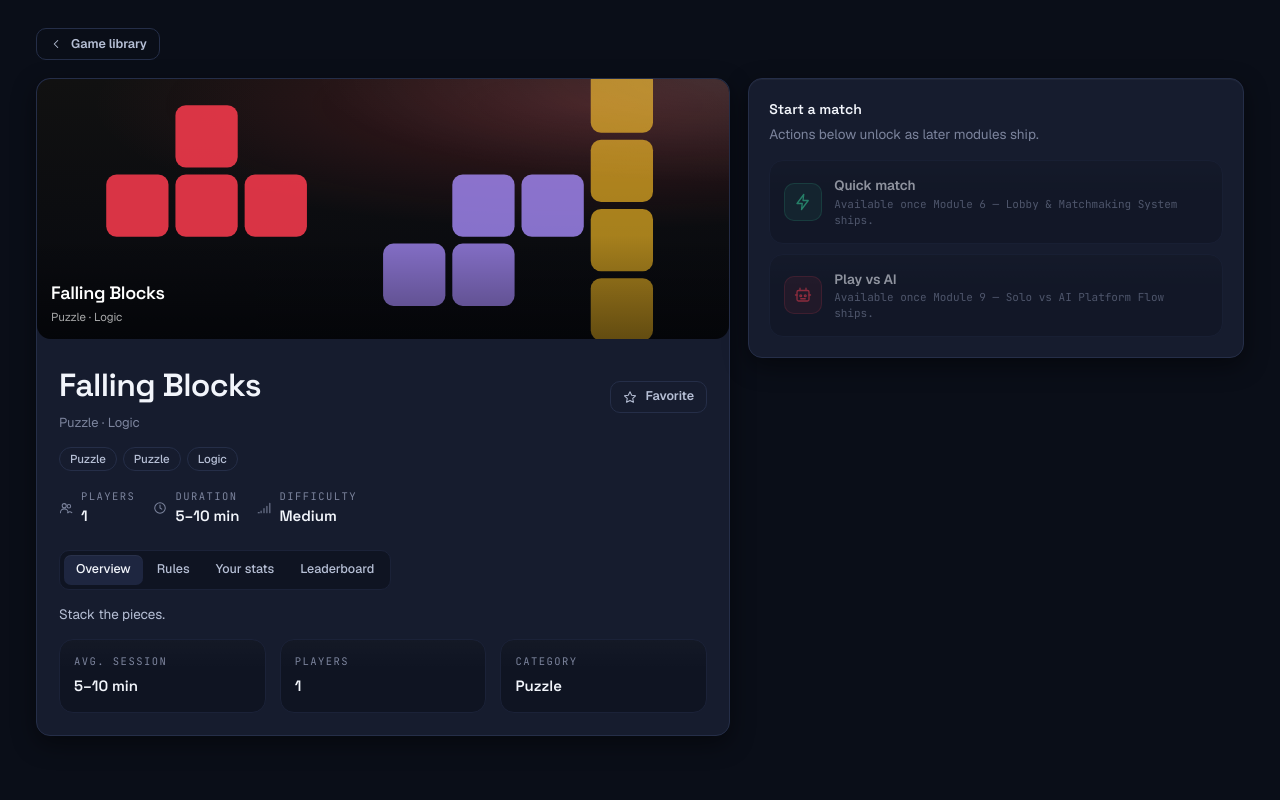
it: GameDetailPage › anonymous favorite click shows a sign-in prompt instead of mutating
Check: the 1st text "Falling Blocks" is shown, box [51,281,165,304]
Click the button "Favorite".
click(659, 397)  # box [610,381,707,413]
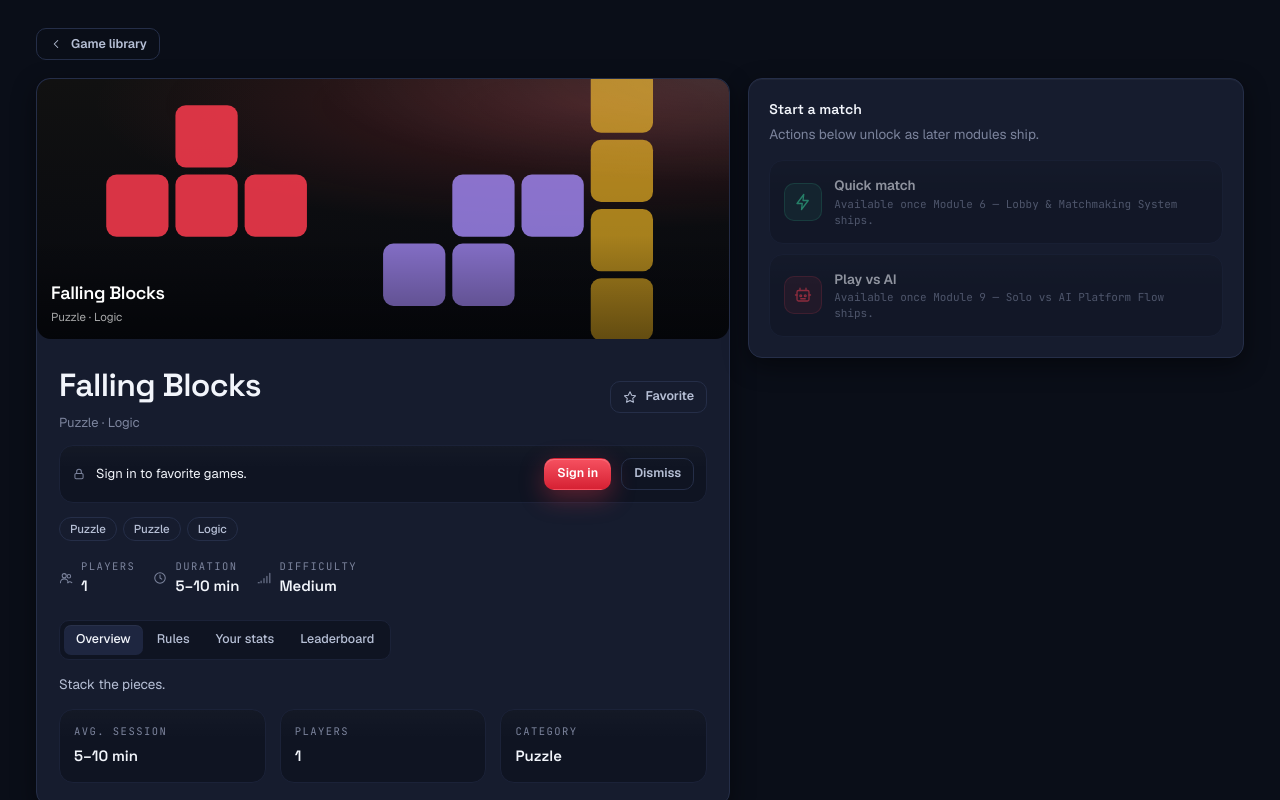
Check: the text "Sign in to favorite games." is shown, box [96,465,246,482]
